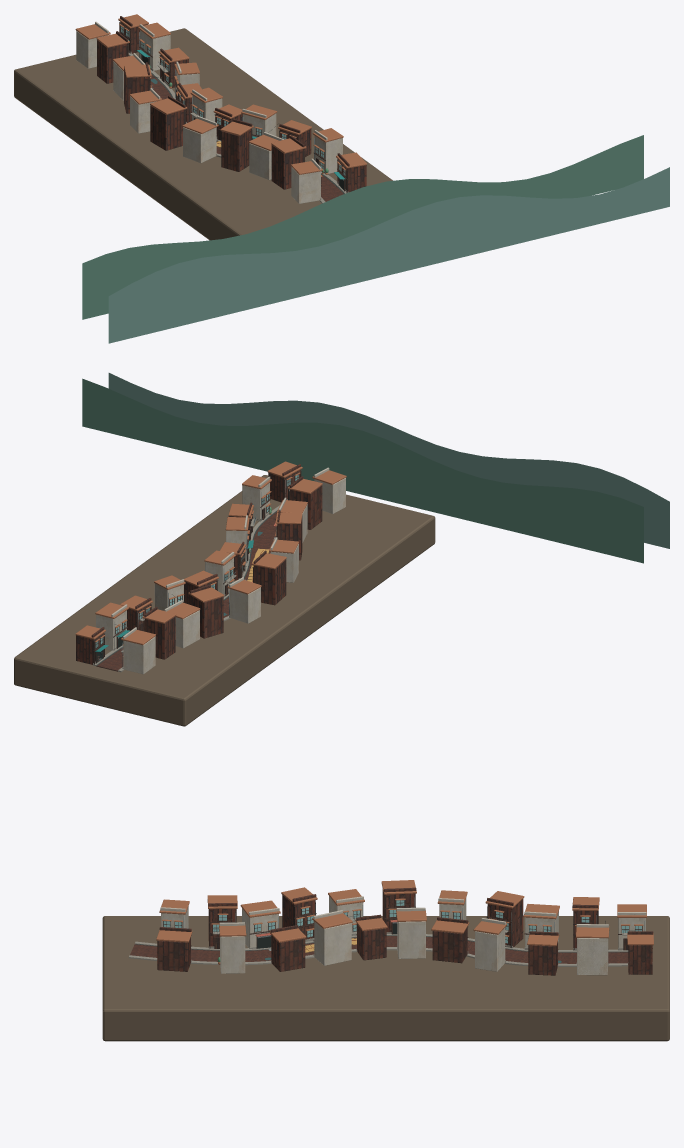
Rendered from kathmandu-gate2-lane.glb.
3 views of the same model, one above another, from view 1: azimuth 30°, elevation 25°; view 2: azimuth 150°, elevation 25°; view 3: azimuth 270°, elevation 25° (orthographic). The views are drawn at different scales.
Parts seen in each view (by area): view 1: GroundedHill.0, Neighborhood.Foundation, GroundedHill.1, Static.Lane.WarmLimePlaster, Static.Lane.WetFiredBrick, Static.Lane.Terracotta, Static.Lane.AgedTimber, Lane.WetBrick; view 2: Neighborhood.Foundation, GroundedHill.1, GroundedHill.0, Static.Lane.WarmLimePlaster, Static.Lane.Terracotta, Static.Lane.WetFiredBrick, Static.Lane.AgedTimber, Lane.WetBrick; view 3: Neighborhood.Foundation, Static.Lane.WetFiredBrick, Static.Lane.WarmLimePlaster, Static.Lane.Terracotta, Lane.WetBrick, Static.Lane.AgedTimber, Static.Lane.DeepGlass, Lane.LeftWalk.
Boxes of the visible parts, bbox=[...] form: GroundedHill.0: bbox=[108, 167, 669, 343]; Neighborhood.Foundation: bbox=[14, 28, 392, 240]; GroundedHill.1: bbox=[82, 135, 643, 319]; Static.Lane.WarmLimePlaster: bbox=[76, 21, 342, 203]; Static.Lane.WetFiredBrick: bbox=[97, 16, 366, 192]; Static.Lane.Terracotta: bbox=[75, 14, 366, 176]; Static.Lane.AgedTimber: bbox=[119, 22, 347, 192]; Lane.WetBrick: bbox=[150, 74, 343, 201]; Neighborhood.Foundation: bbox=[14, 475, 435, 726]; GroundedHill.1: bbox=[82, 378, 643, 563]; GroundedHill.0: bbox=[108, 373, 669, 548]; Static.Lane.WarmLimePlaster: bbox=[96, 467, 345, 674]; Static.Lane.Terracotta: bbox=[75, 461, 346, 657]; Static.Lane.WetFiredBrick: bbox=[76, 464, 322, 664]; Static.Lane.AgedTimber: bbox=[93, 470, 301, 664]; Lane.WetBrick: bbox=[96, 512, 276, 671]; Neighborhood.Foundation: bbox=[102, 916, 669, 1041]; Static.Lane.WetFiredBrick: bbox=[157, 887, 653, 975]; Static.Lane.WarmLimePlaster: bbox=[160, 896, 646, 975]; Static.Lane.Terracotta: bbox=[156, 880, 653, 964]; Lane.WetBrick: bbox=[130, 936, 628, 963]; Static.Lane.AgedTimber: bbox=[163, 896, 652, 950]; Static.Lane.DeepGlass: bbox=[163, 900, 641, 943]; Lane.LeftWalk: bbox=[128, 947, 628, 966].
Size of the model in its own units: 124 by 17.45 by 111.
Materials: 23 (3 with a texture image).
